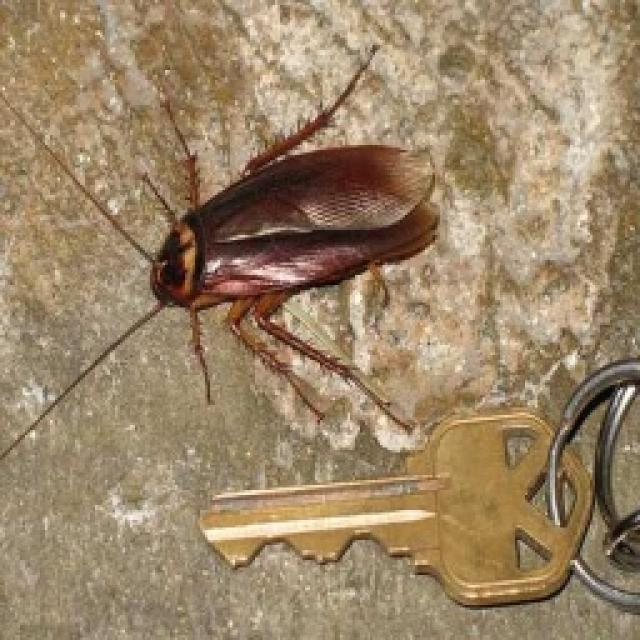cockroach: (165, 82, 501, 380)
